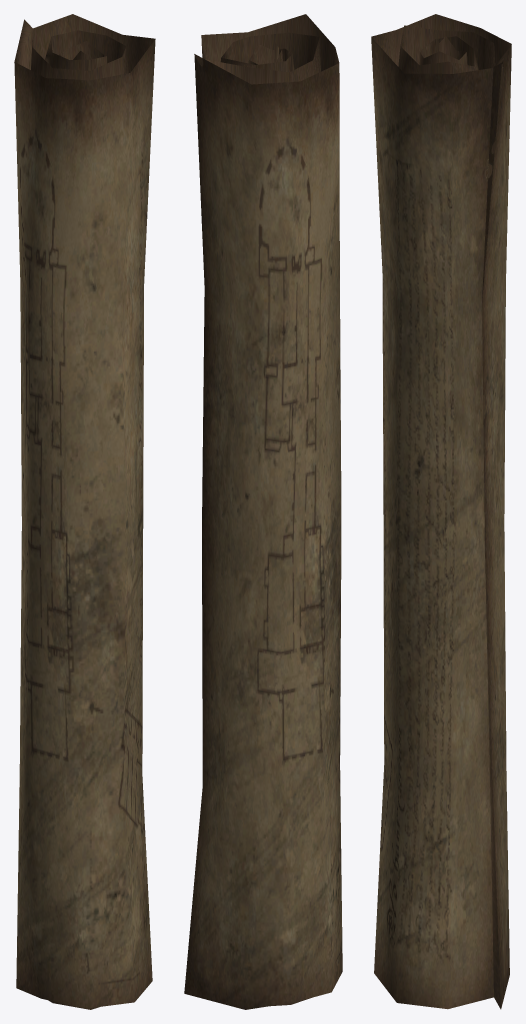
The model's file is sketch_roll02.dae.
3 renders of one model, left to right at view 1: azimuth 90°, elevation 25°; view 2: azimuth 150°, elevation 25°; view 3: azimuth 270°, elevation 25°, orthographic.
Visible parts, largest first — view 1: Cylinder_001; view 2: Cylinder_001; view 3: Cylinder_001.
Boxes of the visible parts, x1,y1,x2,y2 form: Cylinder_001: [14, 14, 155, 1009]; Cylinder_001: [184, 14, 342, 1009]; Cylinder_001: [371, 14, 511, 1009].
Size of the model in its own units: 0.2414 by 1.71 by 0.2278.
